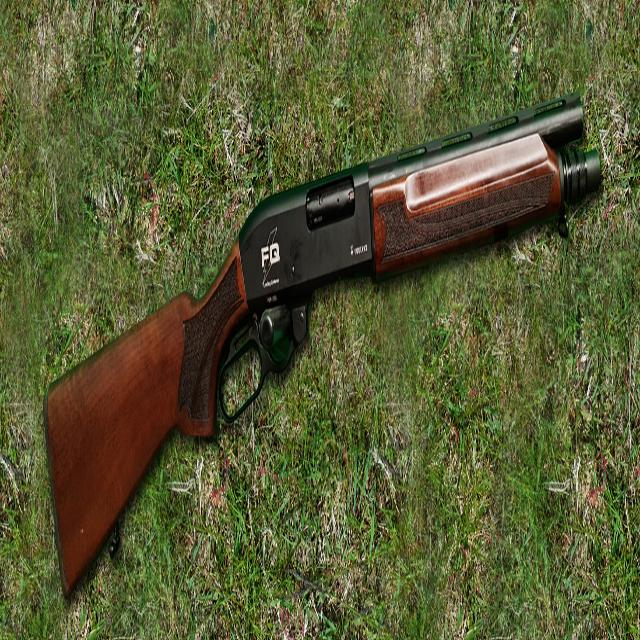Weapon: (44, 93, 601, 594)
